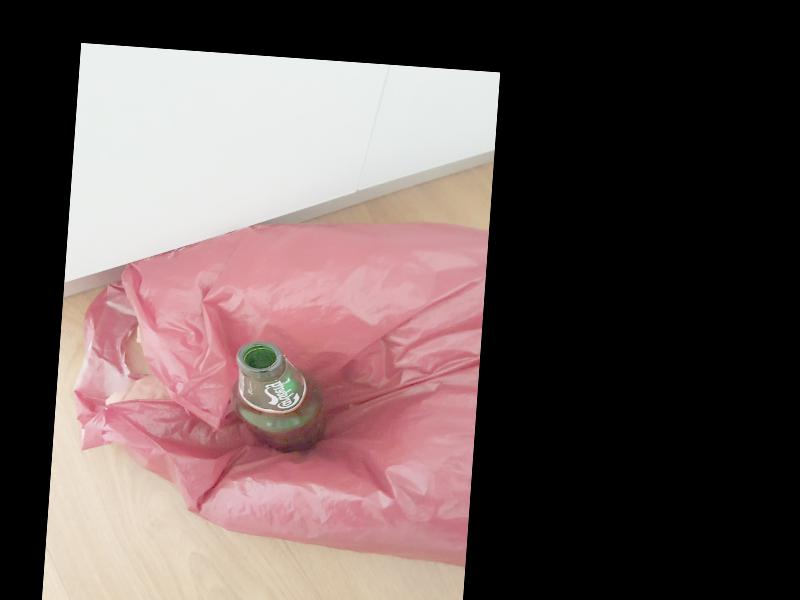Beer: (229, 340, 327, 456)
